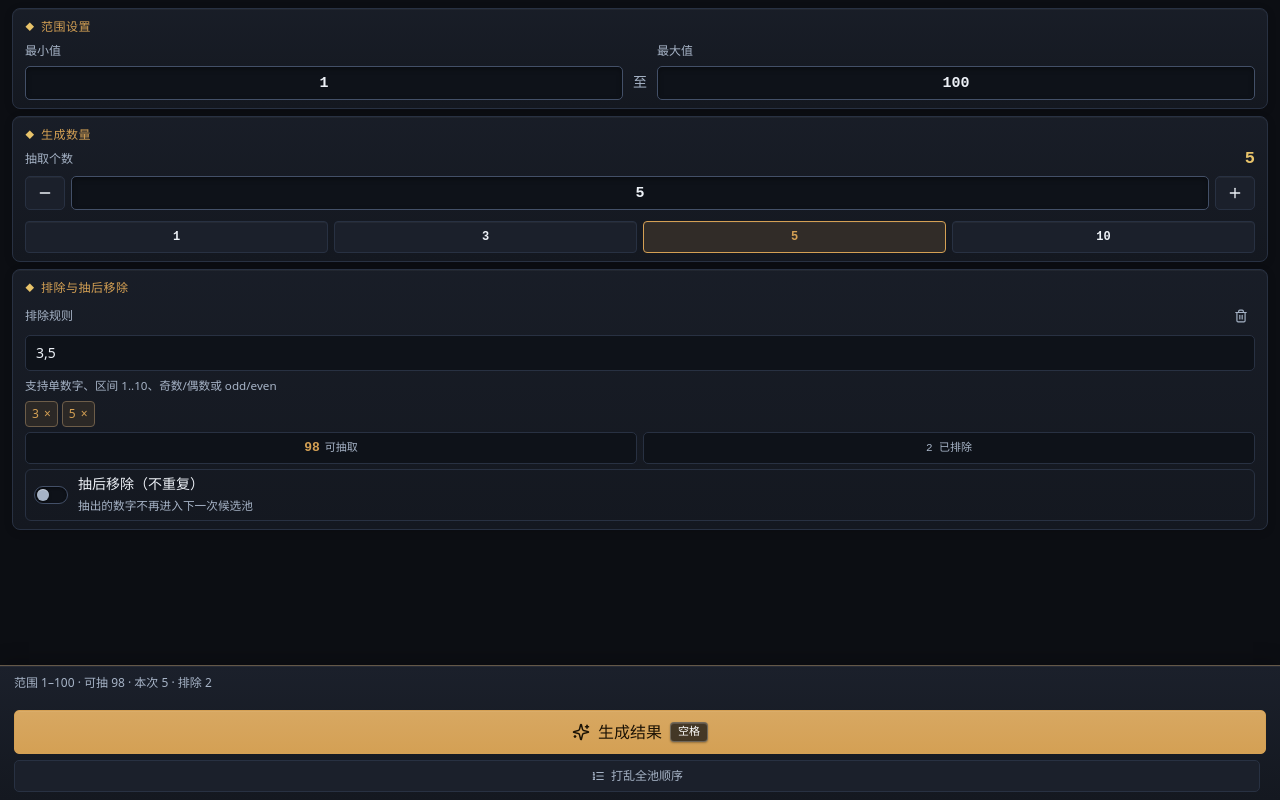
it: DrawInspector › shows a two-purpose summary and clears all exclusion source text
The width and height of the screenshot is (1280, 800).
Check: the text "范围 1–100 · 可抽 98 · 本次 5 · 排除 2" is shown, box [14, 674, 212, 691]
Click the button named "清空排除规则" at x=1241, y=316, box [1227, 302, 1255, 330]
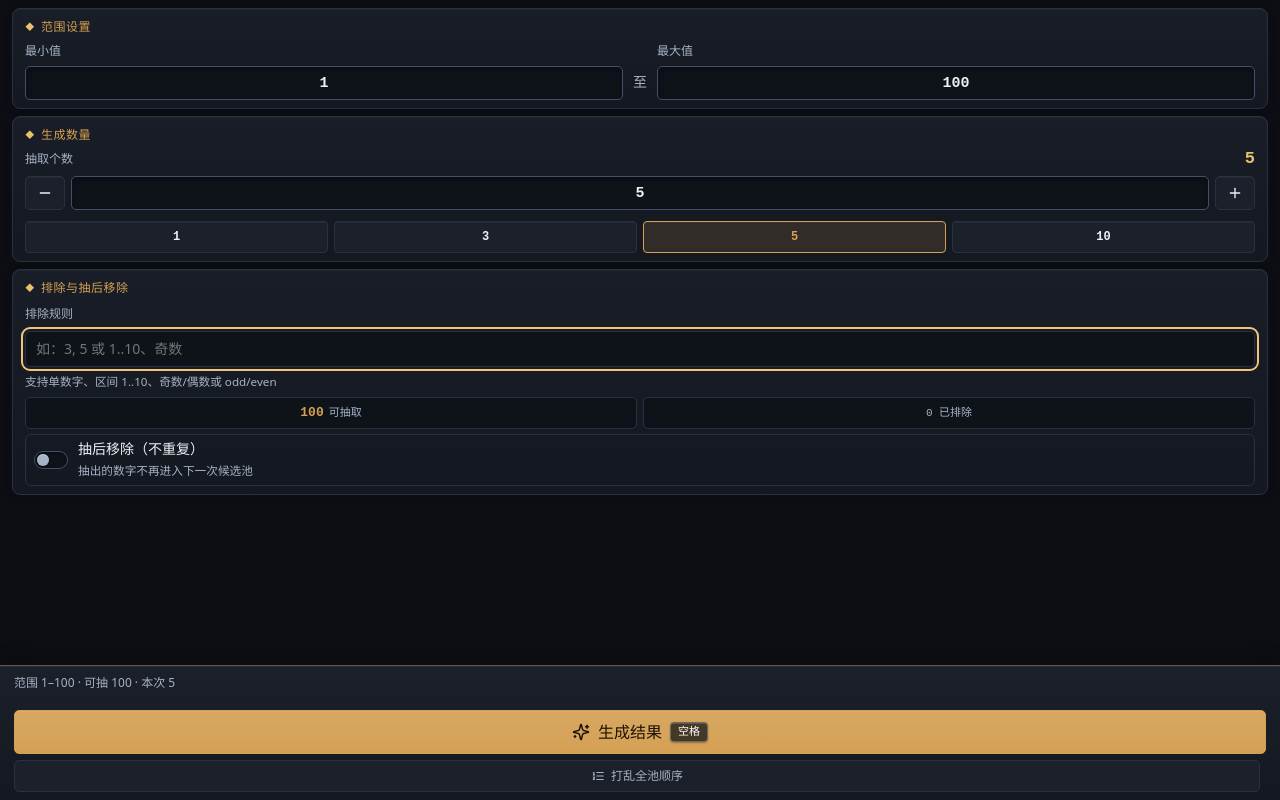
Check: the button "清空排除规则" is gone
